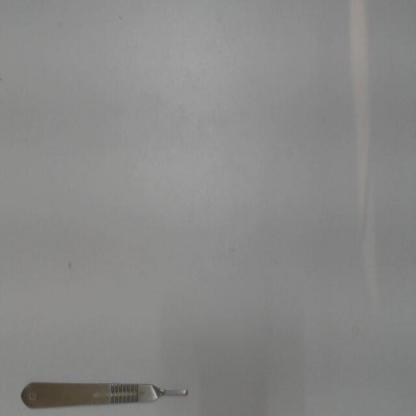No.3 BP Handle: (17, 373, 194, 410)
